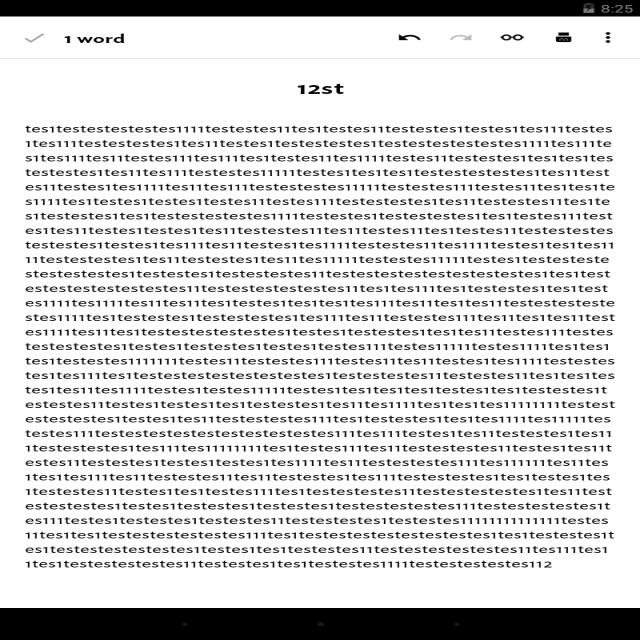ImageButton: (592, 24, 623, 49), (387, 26, 429, 44), (438, 27, 480, 45), (18, 26, 48, 48), (498, 27, 529, 45), (546, 27, 576, 45)
TextView: (16, 119, 614, 565), (284, 75, 362, 98), (58, 27, 139, 47)
